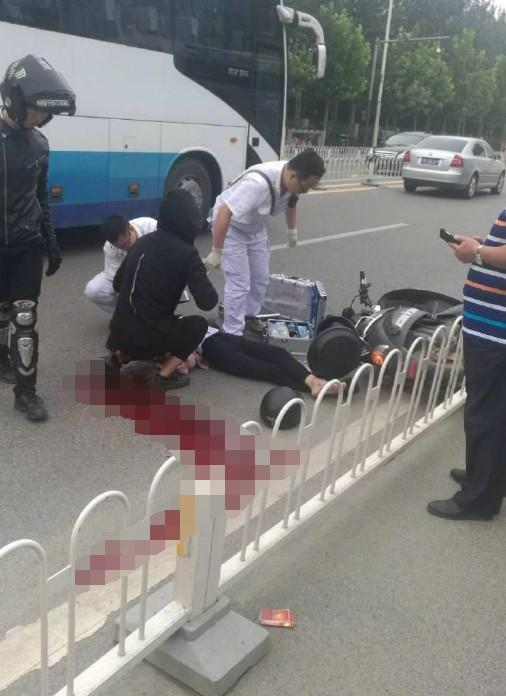Fall-Detected: (100, 298, 347, 400)
